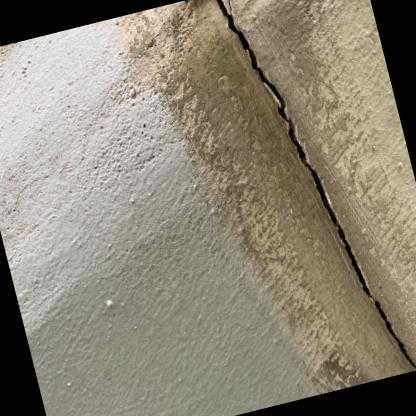crack: (215, 0, 416, 371)
